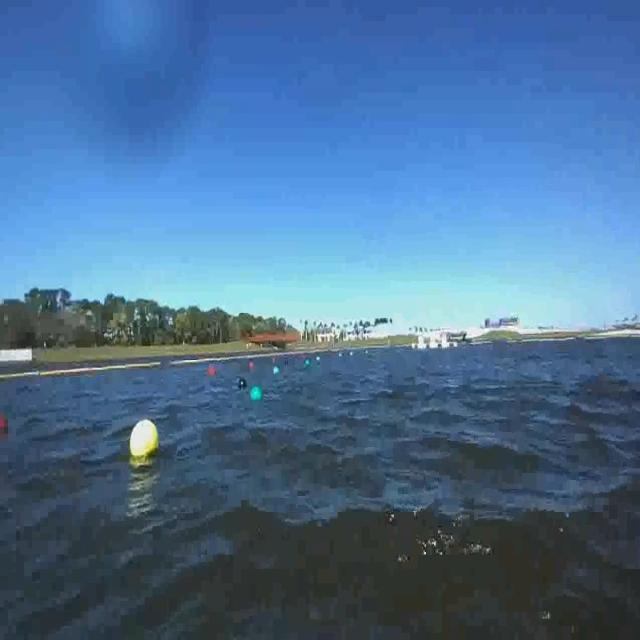black-buoy: (236, 373, 248, 392)
green-buoy: (250, 385, 262, 402)
red-buoy: (0, 412, 7, 433), (208, 365, 217, 376)
yellow-buoy: (130, 421, 160, 459)
